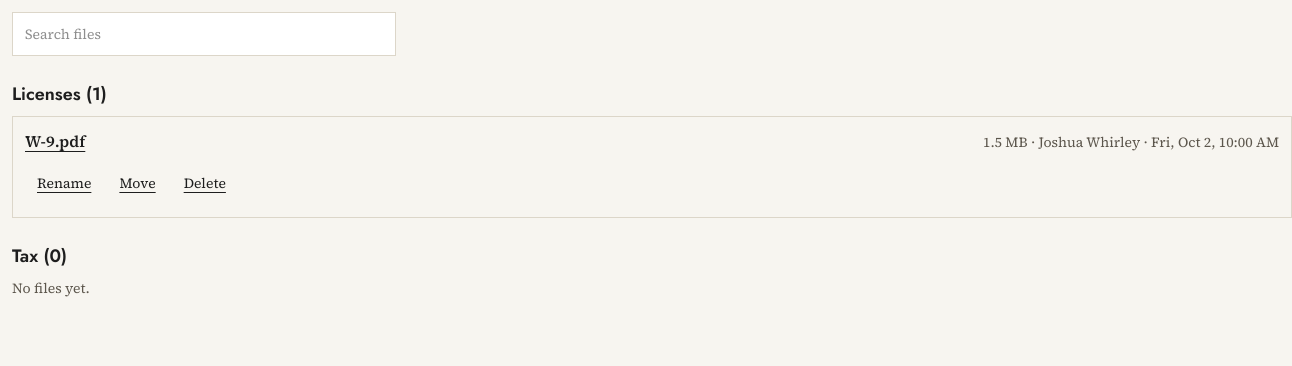
Test: ResourceList › moves a file to another category and shows a refusal
Click the button with aria-label "Move W-9.pdf".
click(138, 183)  # box [107,161,168,205]
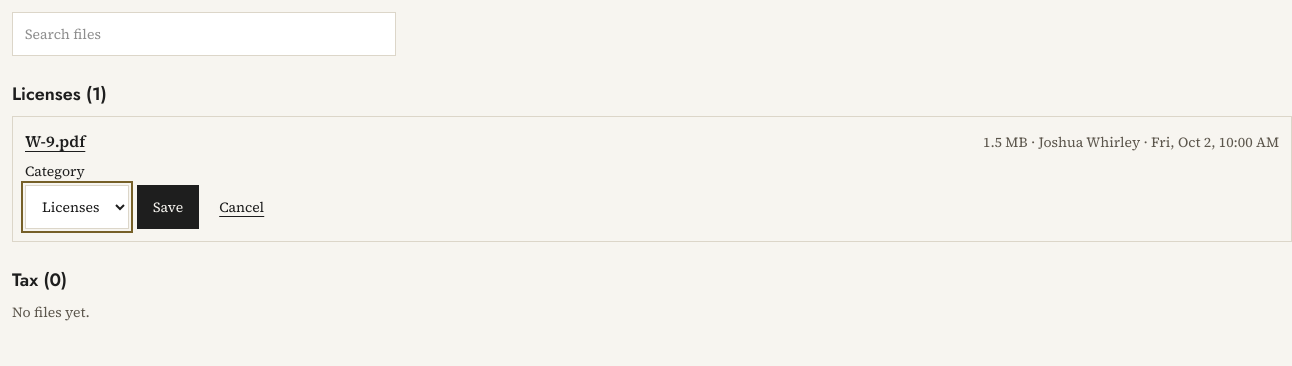
Select "Tax" in the dropdown labelled "Category" at (77, 207), box [25,185,129,229]
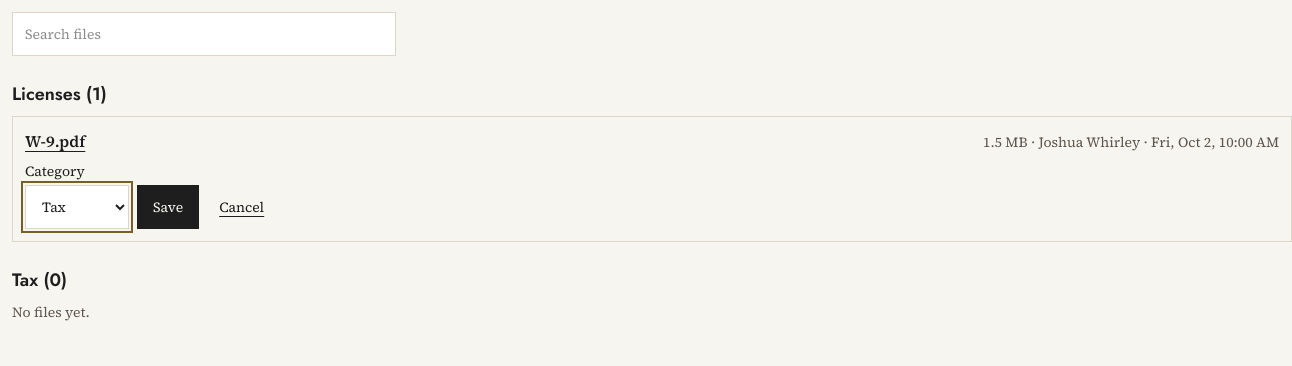
Click the button "Save".
click(168, 207)  # box [137,185,199,229]
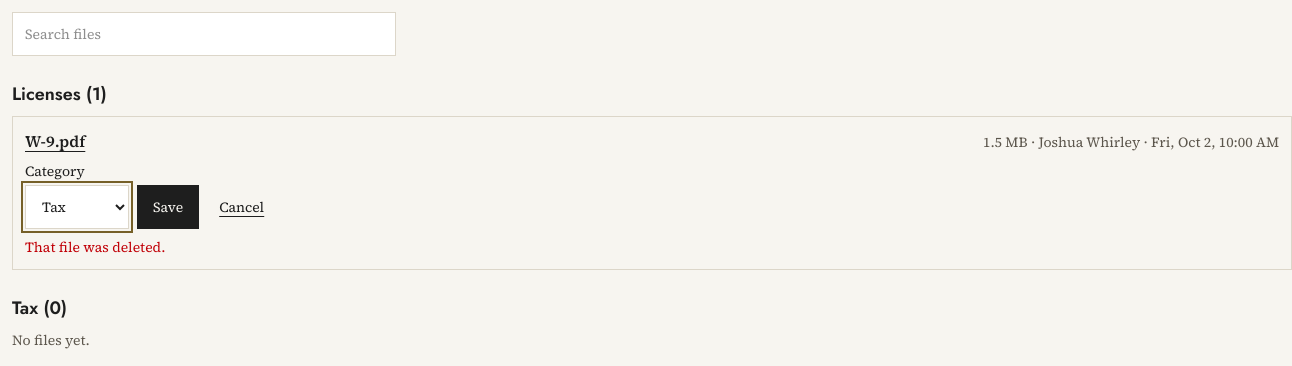
Now the message reads "That file was deleted.", box [25,237,165,257]
